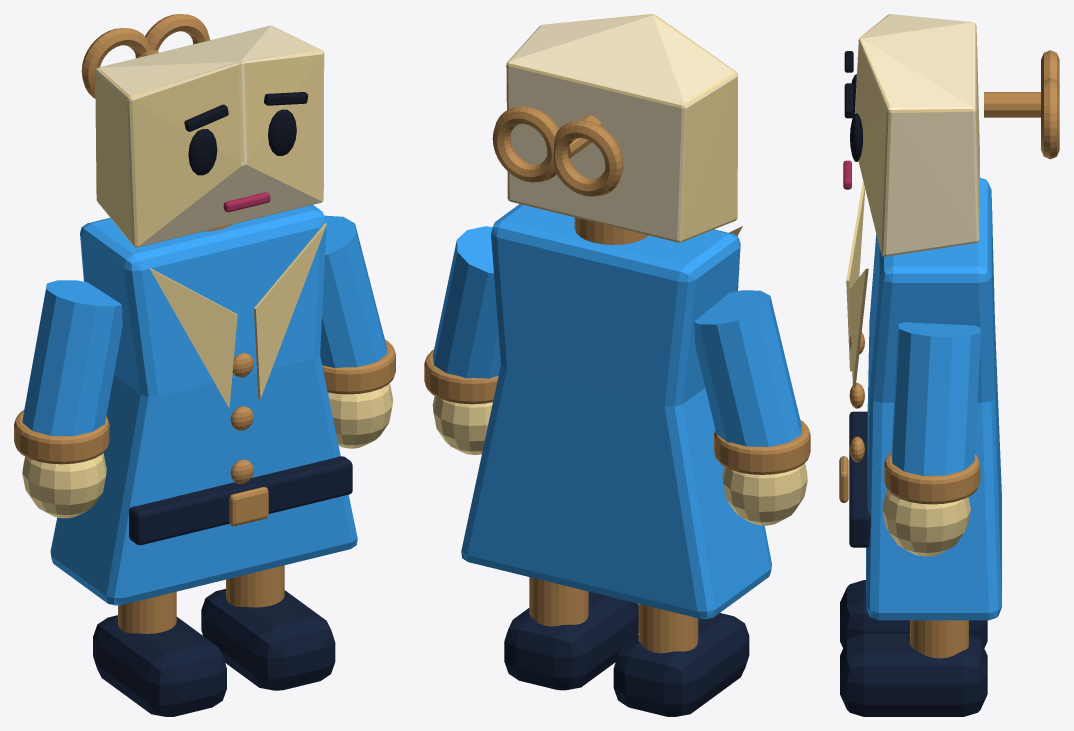
The model's file is Avatar.fbx.
3 renders of one model, left to right at view 1: azimuth 30°, elevation 25°; view 2: azimuth 150°, elevation 25°; view 3: azimuth 270°, elevation 25°, orthographic.
Parts seen in each view (by area): view 1: Avatar.Body.Mesh, Avatar.Head.Mesh, Avatar.Mesh, Avatar.ArmRightPivot.Mesh, Avatar.ArmLeftPivot.Mesh, Avatar.HeadKey.Mesh; view 2: Avatar.Body.Mesh, Avatar.Head.Mesh, Avatar.Mesh, Avatar.ArmRightPivot.Mesh, Avatar.ArmLeftPivot.Mesh, Avatar.HeadKey.Mesh; view 3: Avatar.Body.Mesh, Avatar.Head.Mesh, Avatar.ArmLeftPivot.Mesh, Avatar.Mesh, Avatar.HeadKey.Mesh.
Boxes of the visible parts, <box> form: Avatar.Body.Mesh: <box>50,205,357,605</box>; Avatar.Head.Mesh: <box>95,25,324,247</box>; Avatar.Mesh: <box>93,224,335,716</box>; Avatar.ArmRightPivot.Mesh: <box>14,280,122,518</box>; Avatar.ArmLeftPivot.Mesh: <box>320,215,395,448</box>; Avatar.HeadKey.Mesh: <box>81,14,209,98</box>; Avatar.Body.Mesh: <box>461,204,771,619</box>; Avatar.Head.Mesh: <box>506,14,737,242</box>; Avatar.Mesh: <box>504,217,749,716</box>; Avatar.ArmRightPivot.Mesh: <box>694,290,810,525</box>; Avatar.ArmLeftPivot.Mesh: <box>424,226,500,454</box>; Avatar.HeadKey.Mesh: <box>492,106,623,196</box>; Avatar.Body.Mesh: <box>839,177,1001,620</box>; Avatar.Head.Mesh: <box>843,14,979,256</box>; Avatar.ArmLeftPivot.Mesh: <box>882,322,980,556</box>; Avatar.Mesh: <box>840,580,987,716</box>; Avatar.HeadKey.Mesh: <box>984,50,1059,159</box>.
Size of the model in its own units: 116 by 192 by 59.65.
